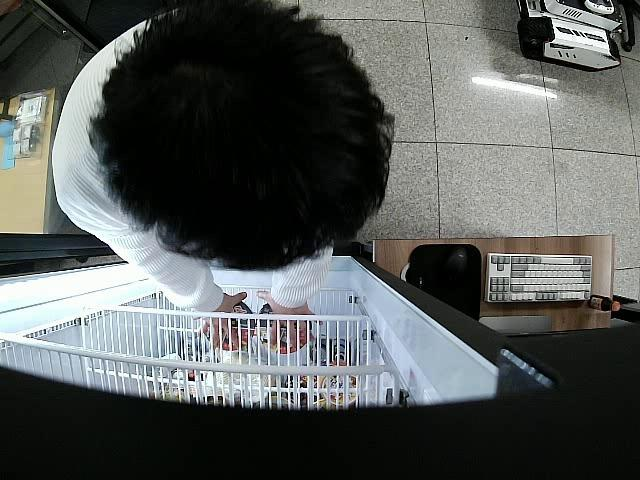07_buldak_L: (260, 303, 313, 352), (209, 300, 254, 352)
